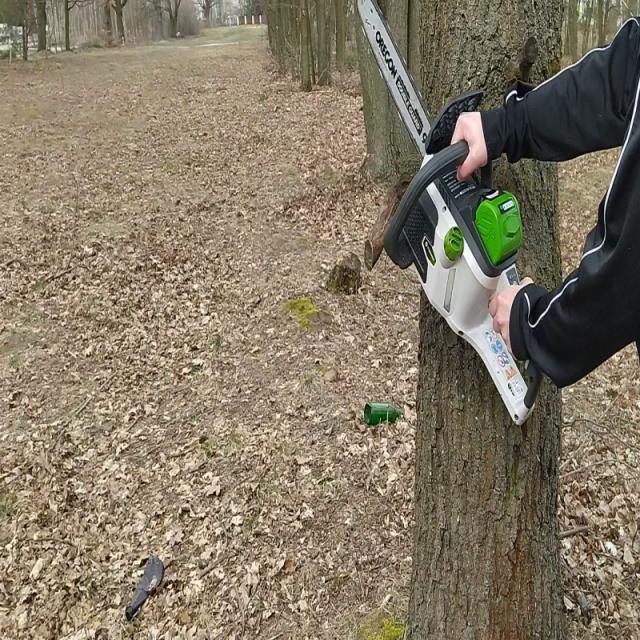Chainsaw: (351, 0, 546, 431)
